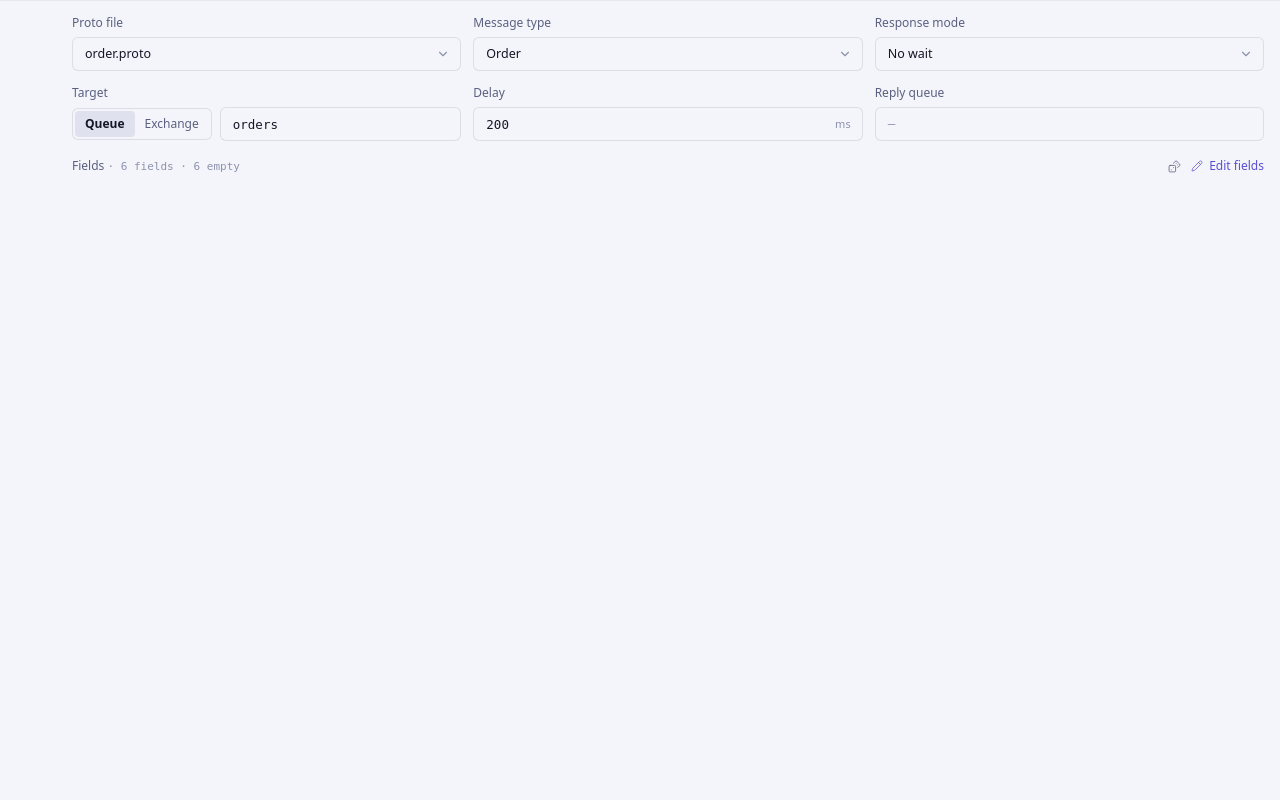
Test: StepEditor grids › reveals the field form when 'Edit fields' is toggled
Click the button "Edit fields".
click(1228, 166)  # box [1191,158,1264,174]
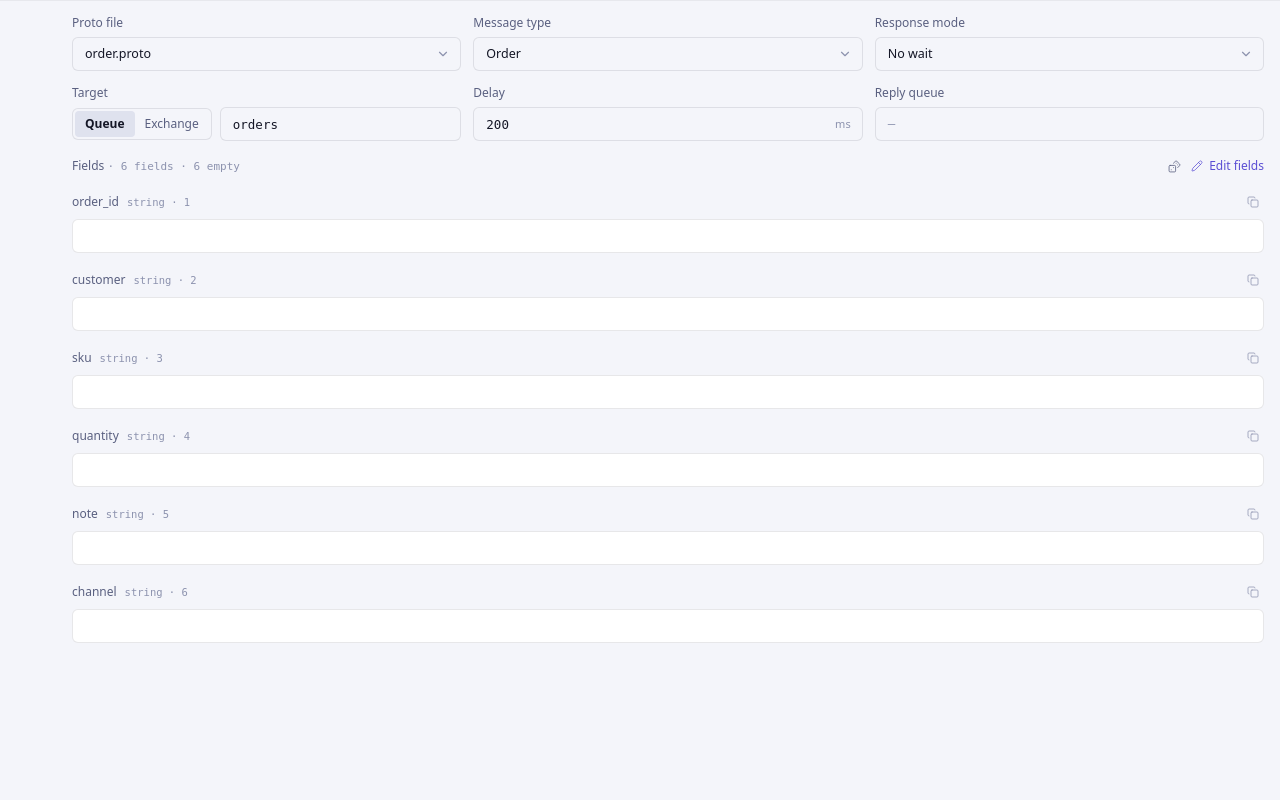
Result: the text "order_id" is shown at [72,194,119,210]
Result: the text "channel" is shown at [72,584,117,600]
